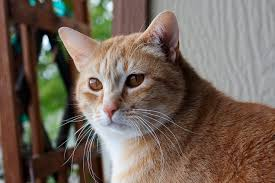cat: (47, 6, 225, 159)
